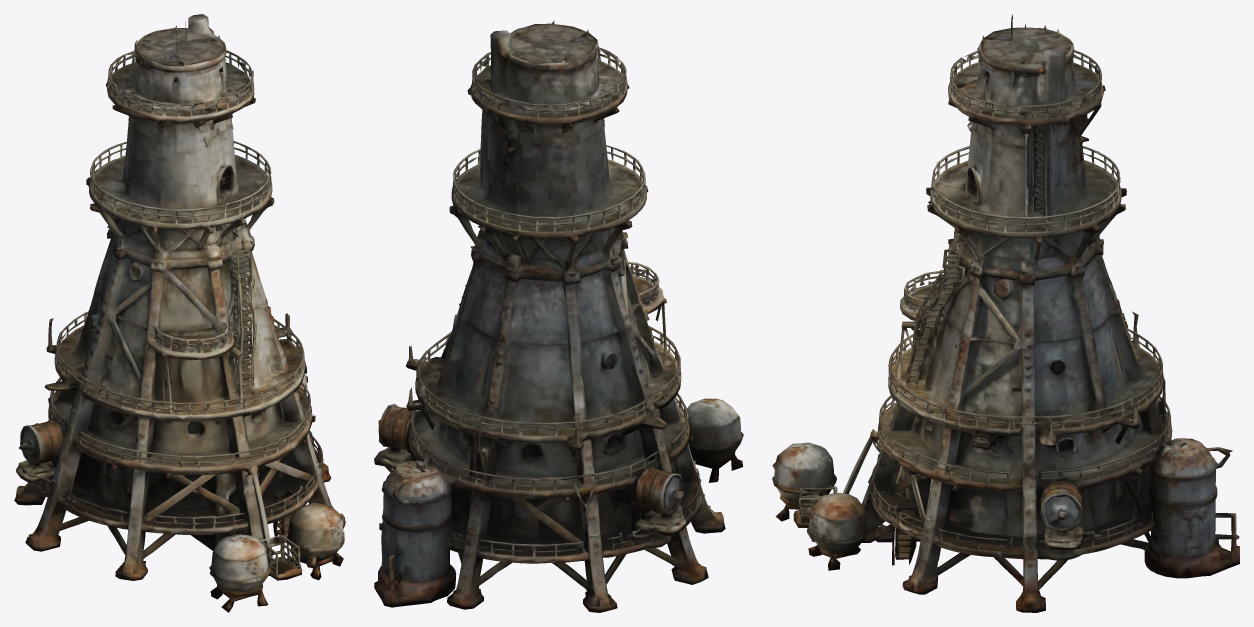
File: fort_foundry_tower.glb
3 renders of one model, left to right at view 1: azimuth 30°, elevation 25°; view 2: azimuth 150°, elevation 25°; view 3: azimuth 270°, elevation 25°, orthographic. The views are drawn at different scales.
Visible parts, largest first — view 1: tripo_node_39640cbc-3639-49d9-9e5e-30b51a074c9a; view 2: tripo_node_39640cbc-3639-49d9-9e5e-30b51a074c9a; view 3: tripo_node_39640cbc-3639-49d9-9e5e-30b51a074c9a.
Boxes of the visible parts, box(x1,y1,x2,y2) form: tripo_node_39640cbc-3639-49d9-9e5e-30b51a074c9a: box(14, 14, 345, 612); tripo_node_39640cbc-3639-49d9-9e5e-30b51a074c9a: box(374, 21, 743, 612); tripo_node_39640cbc-3639-49d9-9e5e-30b51a074c9a: box(772, 14, 1239, 612).
Bounding box in the file's own units: 0.6316 × 1 × 0.8185.
Materials: 1 (1 with a texture image).
